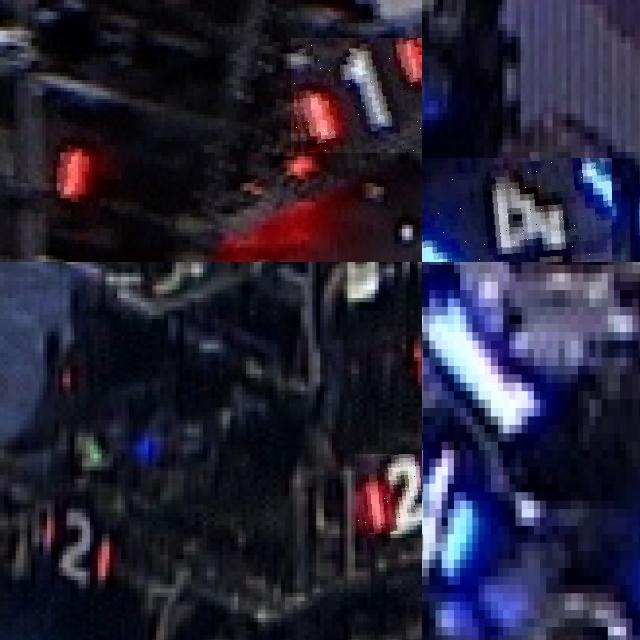B4: (422, 158, 612, 262), (422, 433, 478, 584)
R1: (290, 38, 422, 152)
R2: (35, 500, 121, 584), (355, 454, 422, 534)
